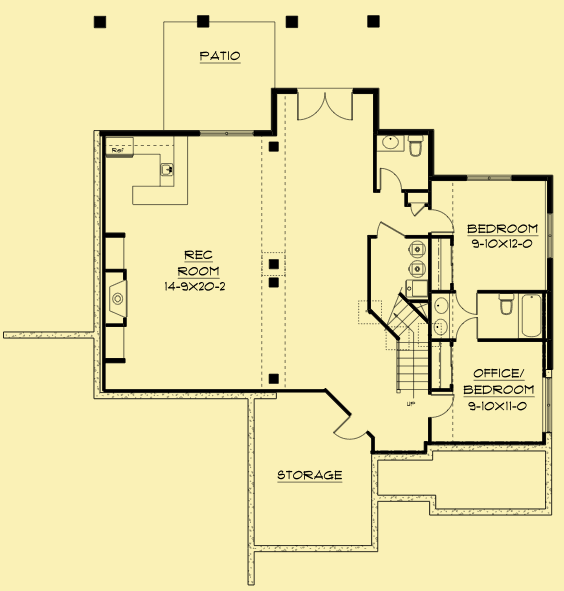door: (292, 85, 357, 125), (332, 413, 369, 443), (373, 214, 409, 240), (427, 392, 457, 423), (374, 164, 406, 193), (454, 288, 482, 318), (427, 207, 457, 235), (455, 315, 481, 343)
large sink: (492, 289, 517, 320), (404, 130, 428, 162)
small sink: (431, 292, 454, 341), (376, 129, 407, 153)
stairs: (369, 293, 435, 405)
tub: (516, 290, 542, 338)
windows: (537, 370, 555, 436), (196, 126, 259, 142), (460, 170, 515, 187), (541, 208, 557, 265)
